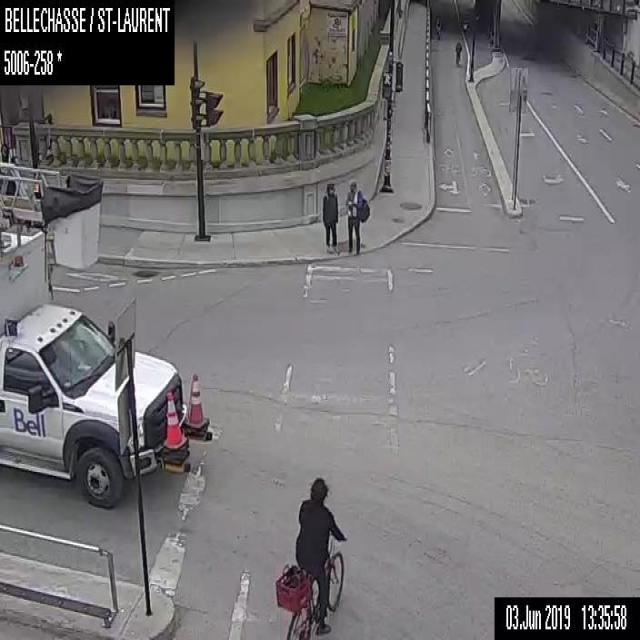cyclist: (273, 477, 348, 639), (455, 40, 461, 64), (435, 18, 441, 40)
pedestrian: (344, 180, 369, 254), (322, 182, 338, 254)
vehicle: (0, 160, 212, 508)
